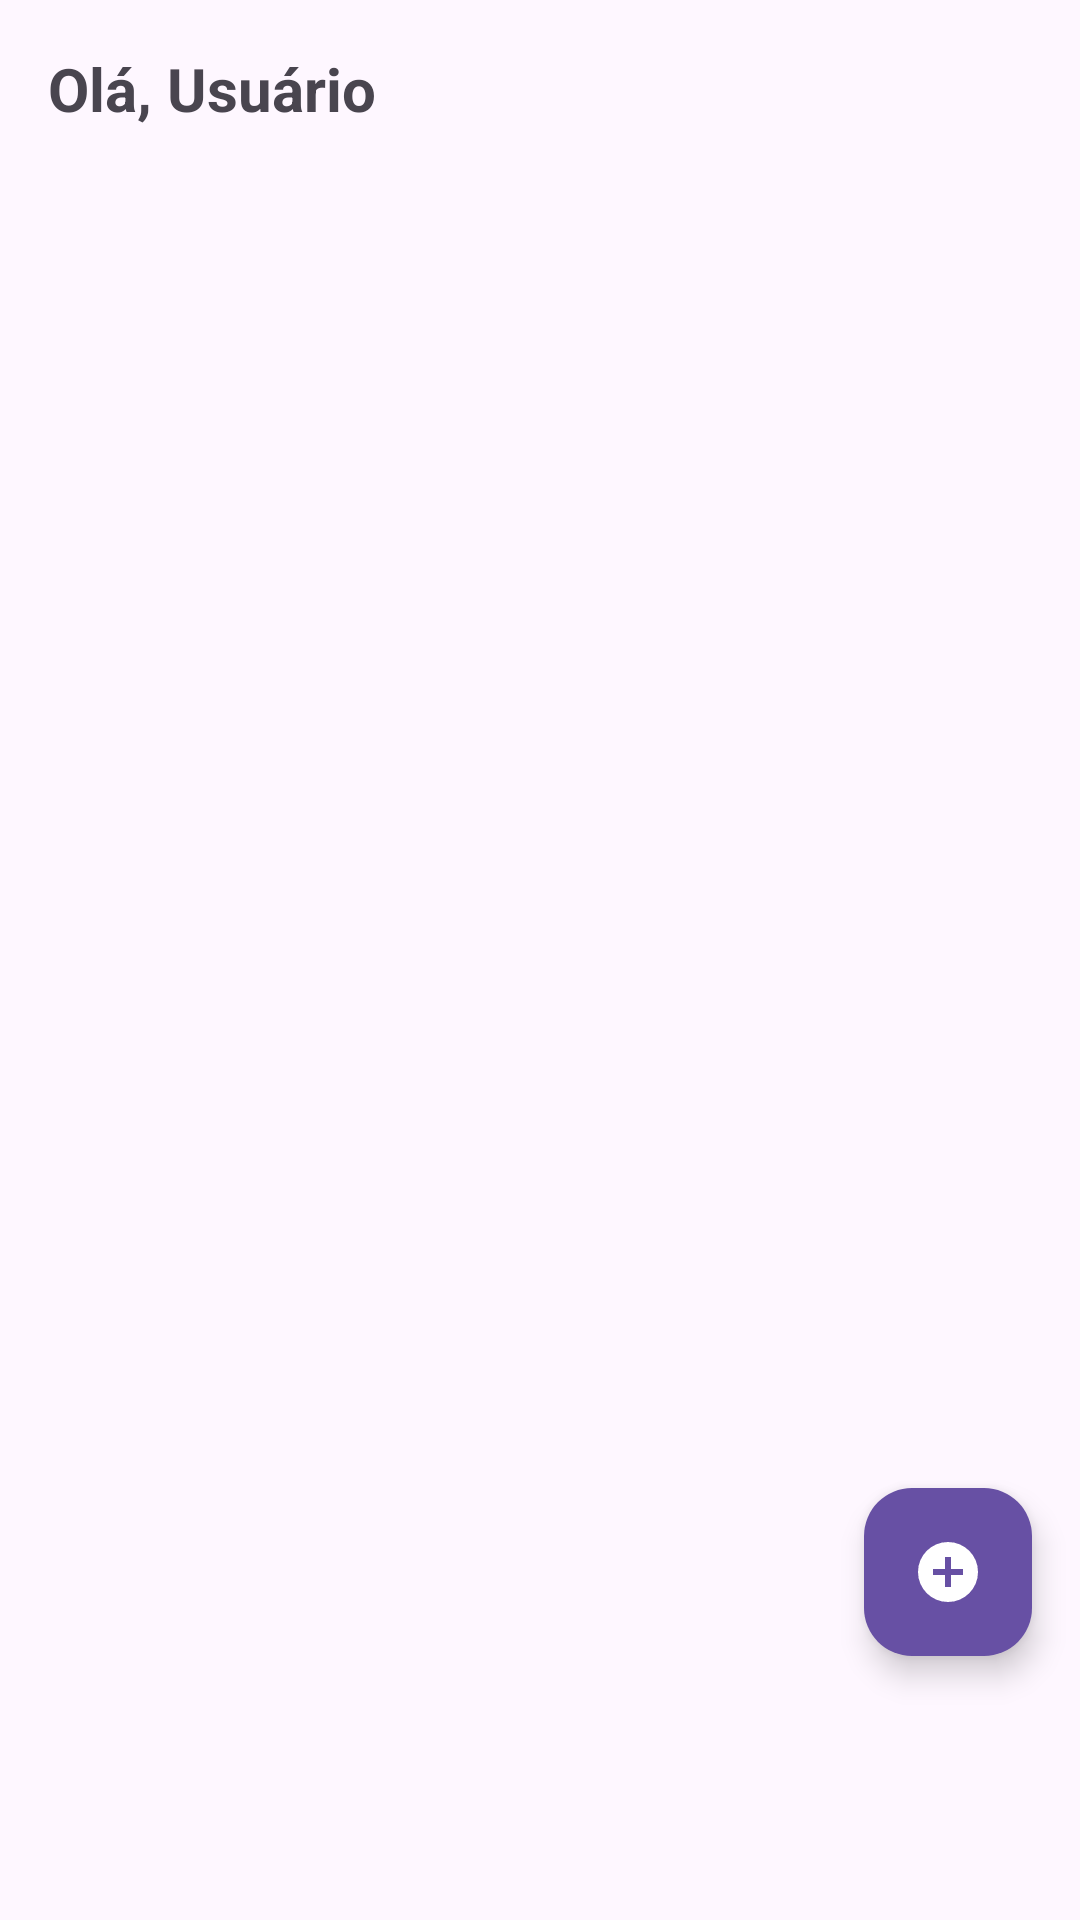

Icon bounding boxes for this 1080×1920 phone screenshot, format (x1, y1, x2, y2):
Adicionar: (864, 1488, 1032, 1656)
